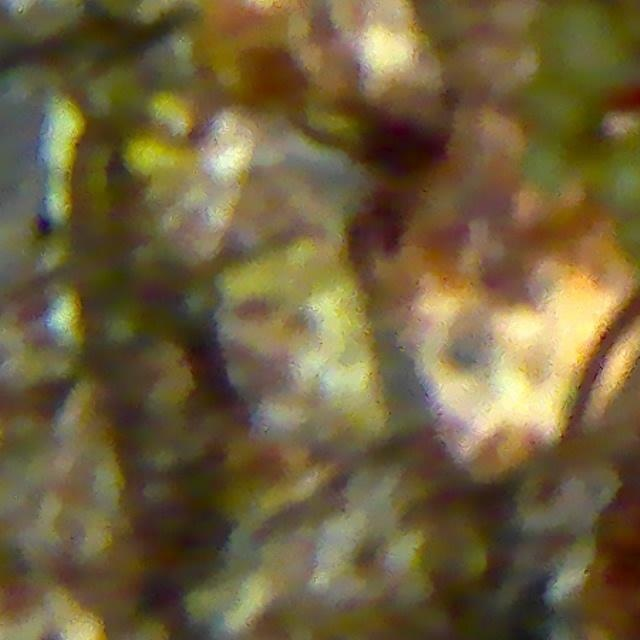SeaGrape: (544, 0, 640, 99), (524, 78, 594, 145), (594, 148, 640, 220)
